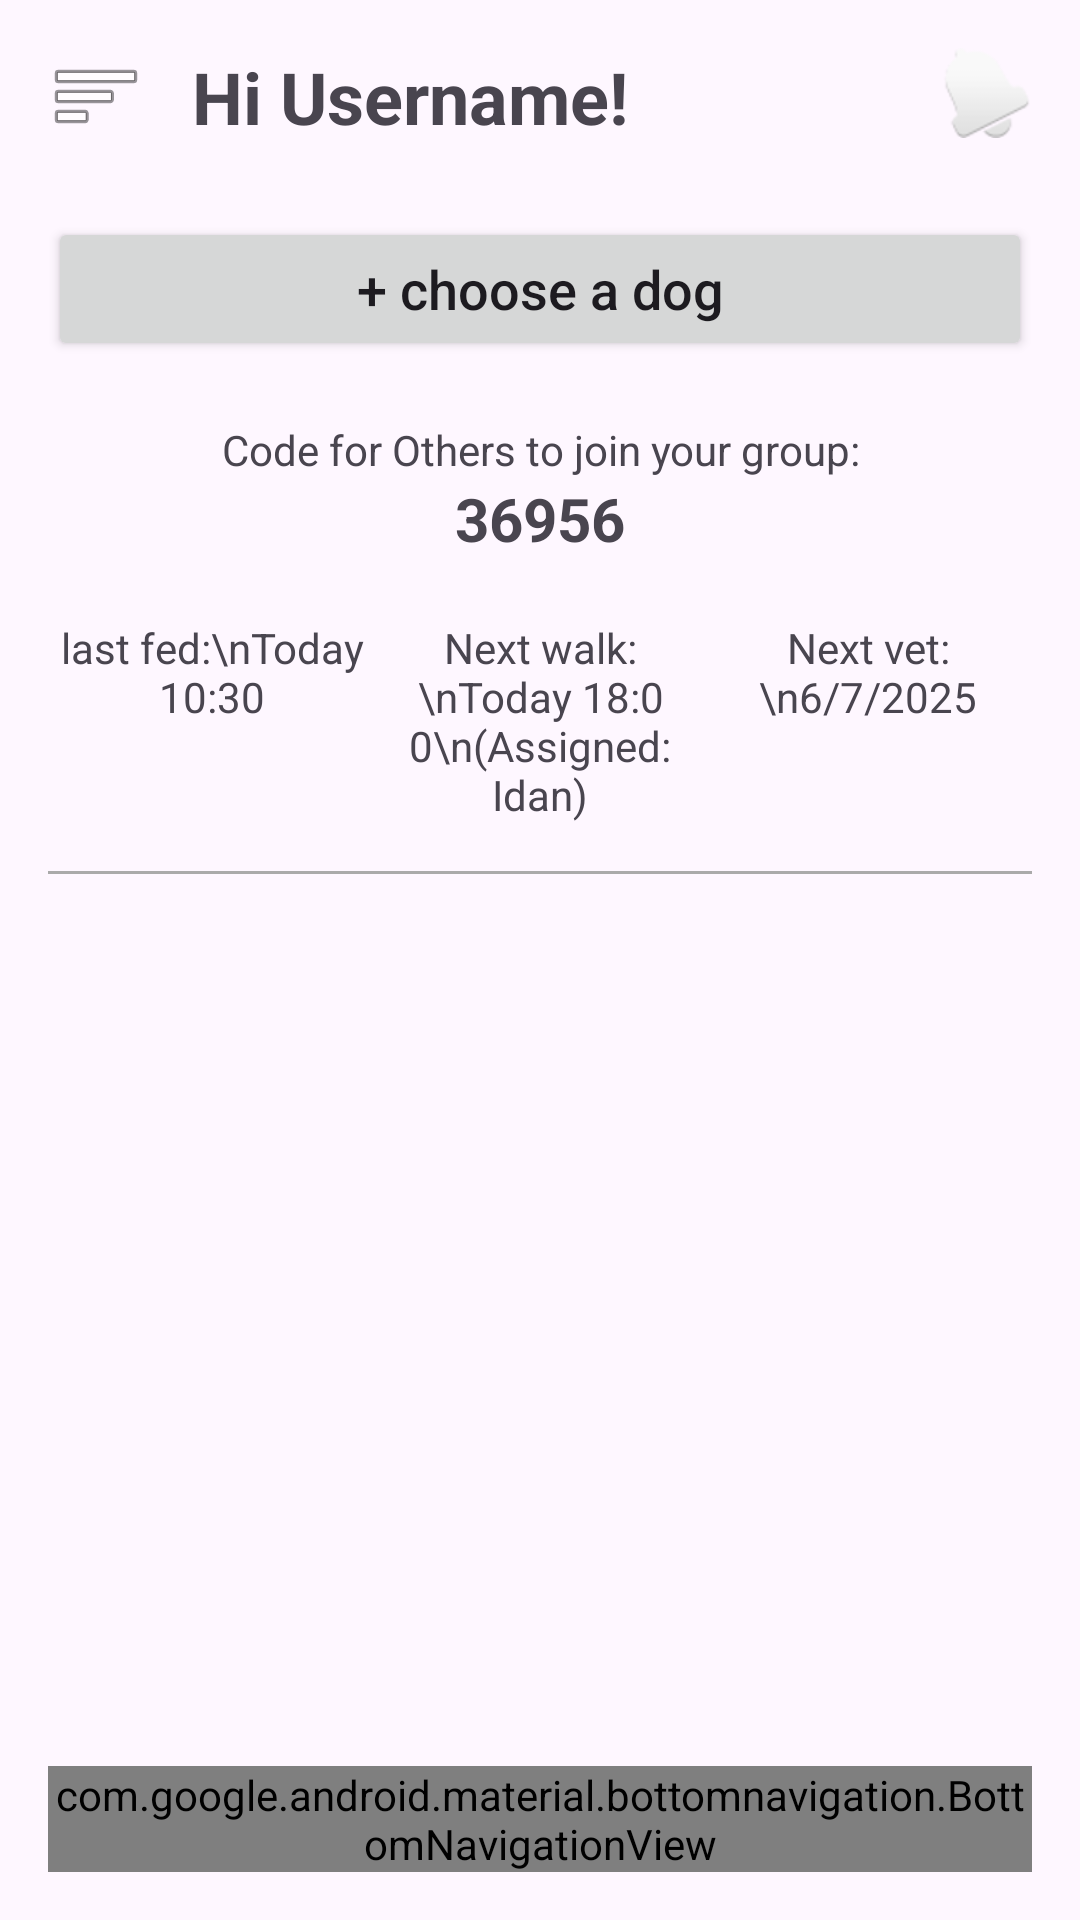

Point at icon controls on the screen. Image size 1080*1920, points as point (x, y).
sort by size: point (96, 96)
